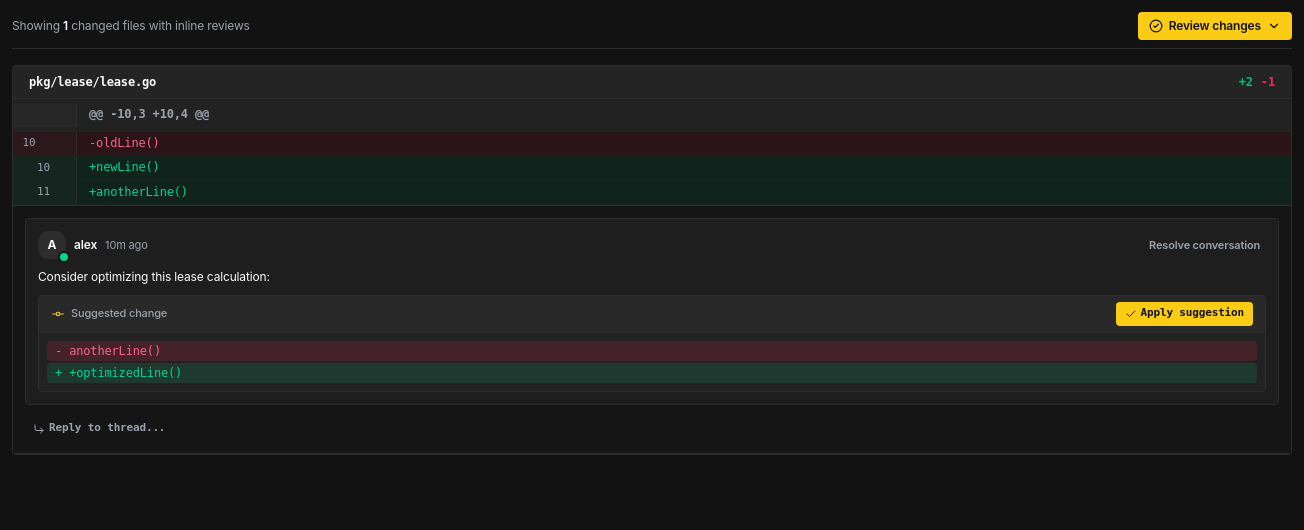
Test: InlineDiffViewer Component › submits a batch review with Approve verdict
Click the button "Review changes" at {"x": 1215, "y": 26}, box [1138,12,1292,40]
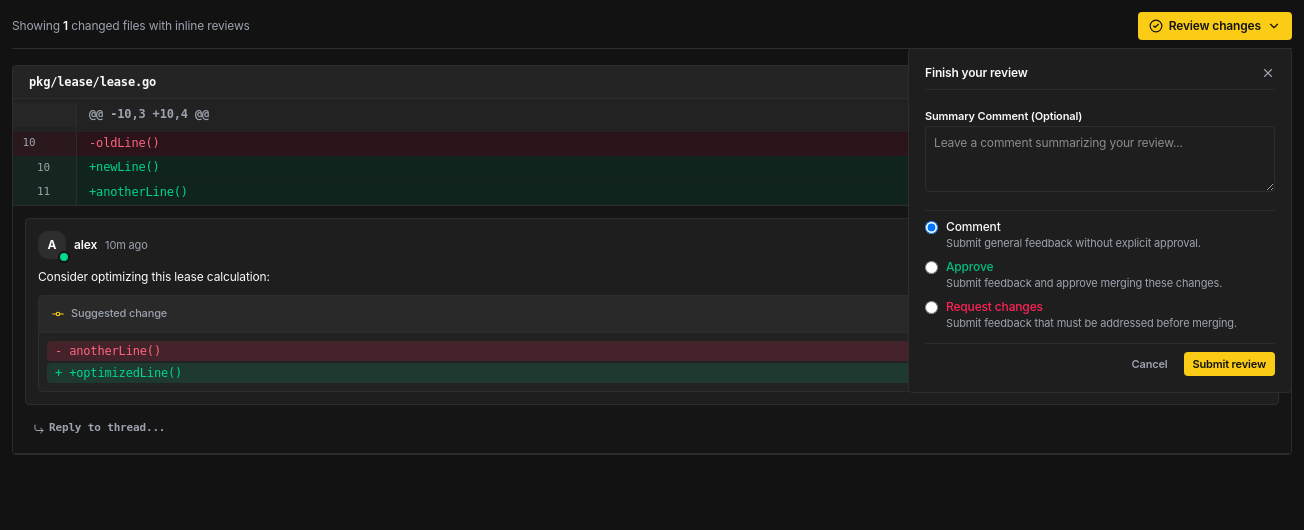
Expected: the element with test id "review-changes-modal" is shown, [908,48,1292,393]
# Select Approve radio
Click the radio button labelled "Approve Submit feedback and approve merging these changes." at {"x": 932, "y": 268}, box [925,261,938,274]
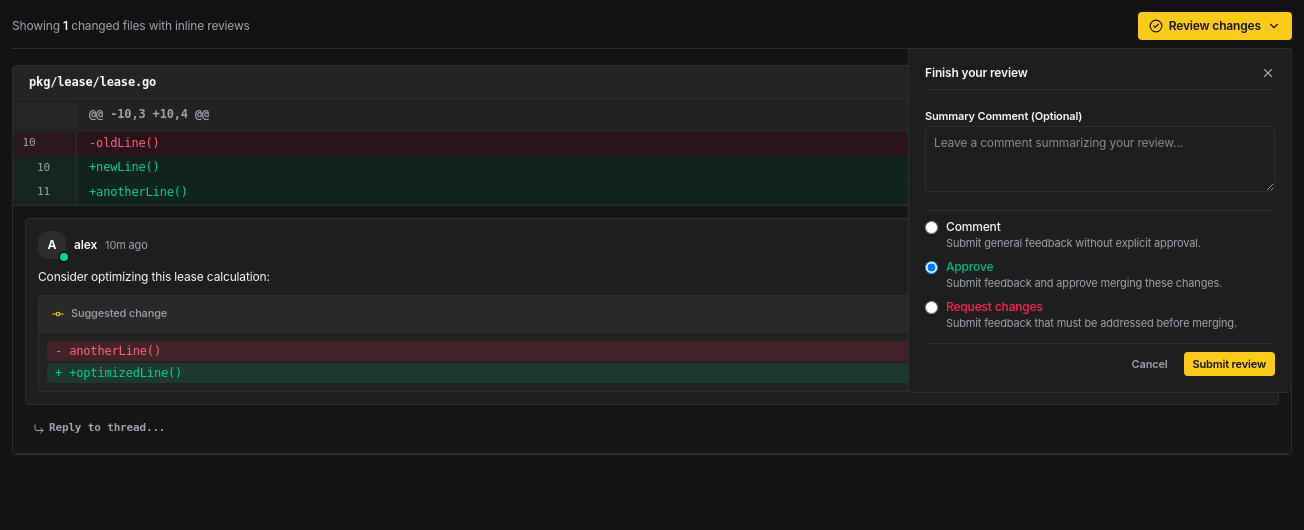
# Fill summary comment
Type "LGTM! Great work." into the text box with placeholder "Leave a comment summarizing your review..." at {"x": 1100, "y": 159}, box [925,126,1275,192]
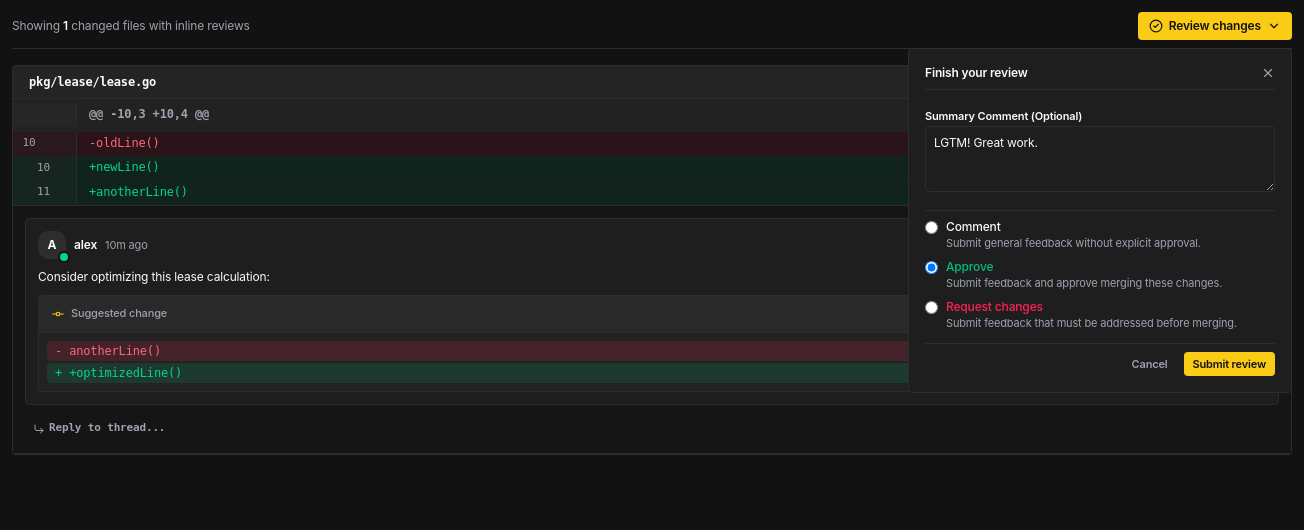
# Submit review
Click the button "Submit review" at {"x": 1229, "y": 364}, box [1184,352,1275,376]
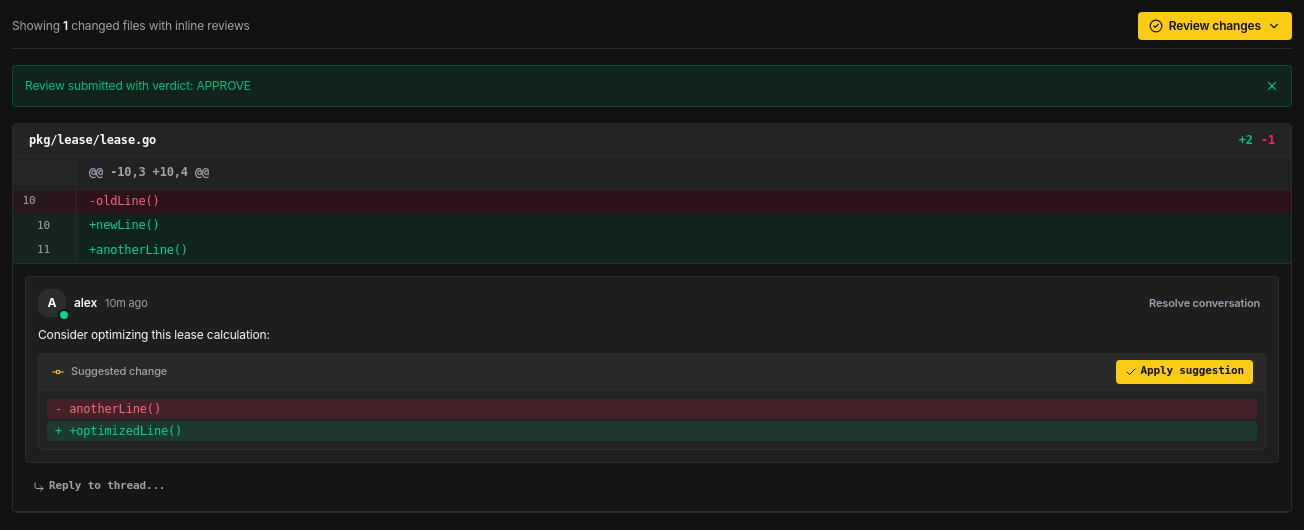
Expected: the text "Review submitted with verdict: APPROVE" is shown, [25,78,251,94]
